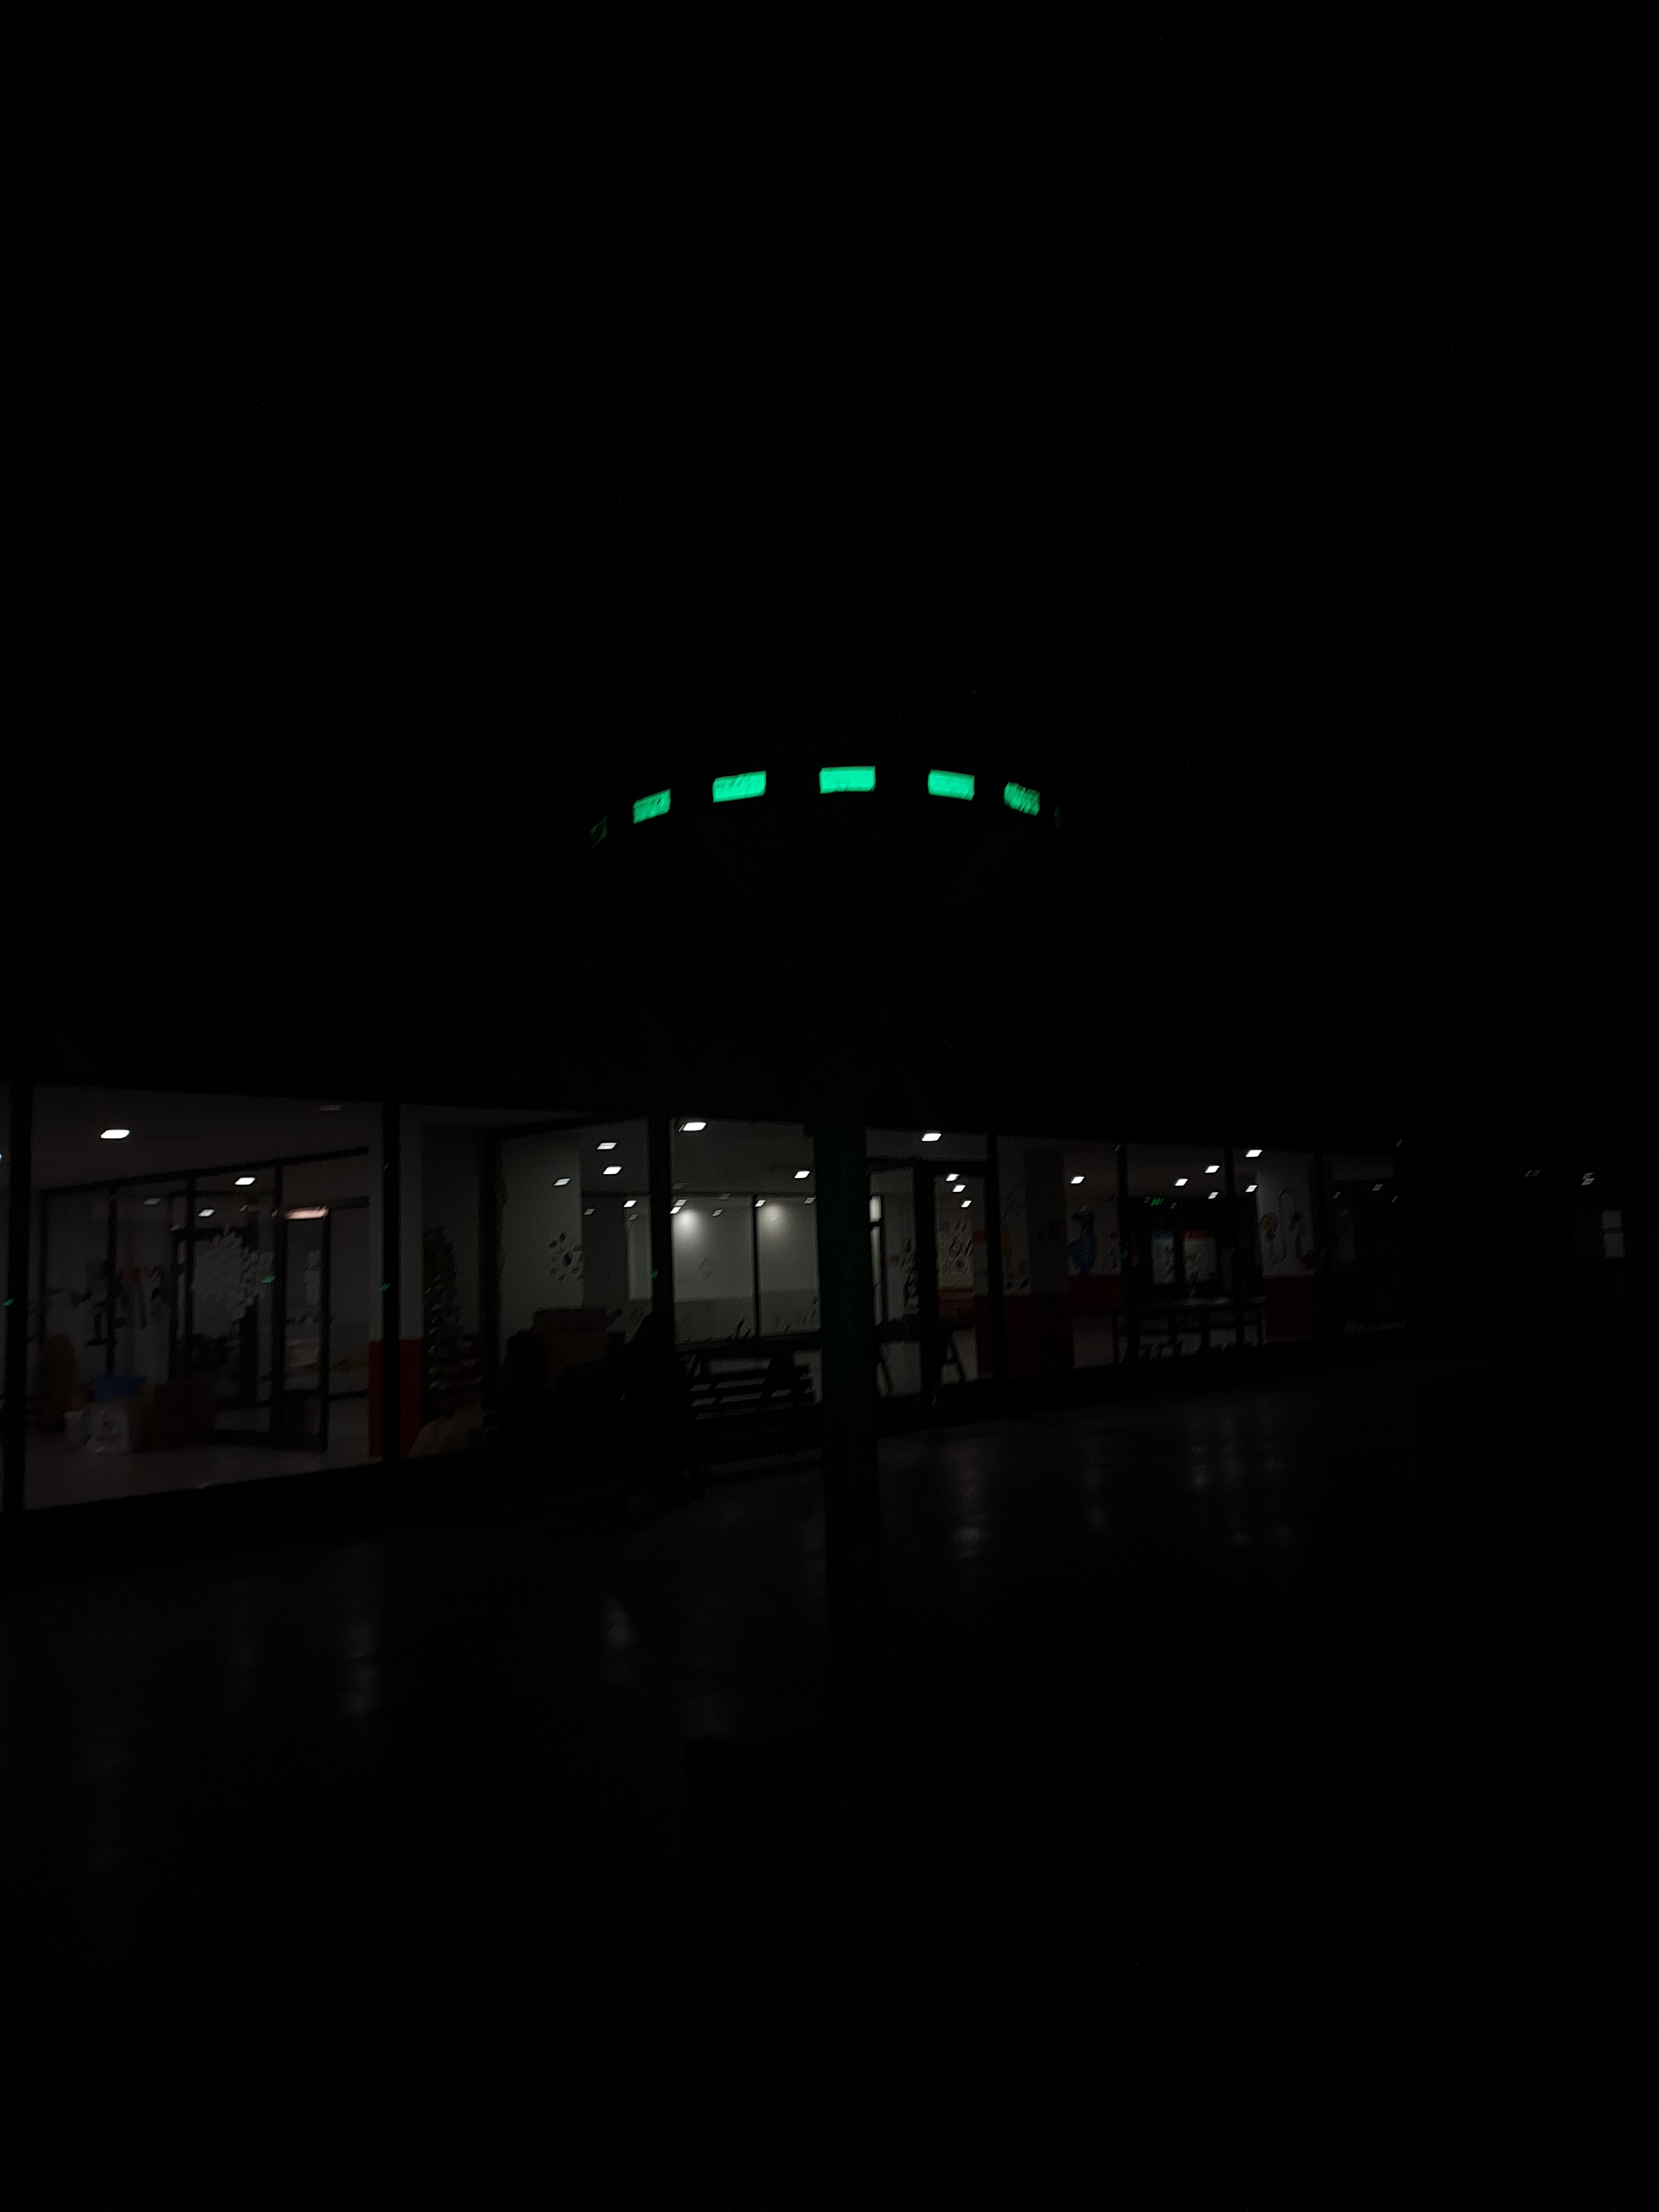hoop: (622, 754, 1047, 836)
